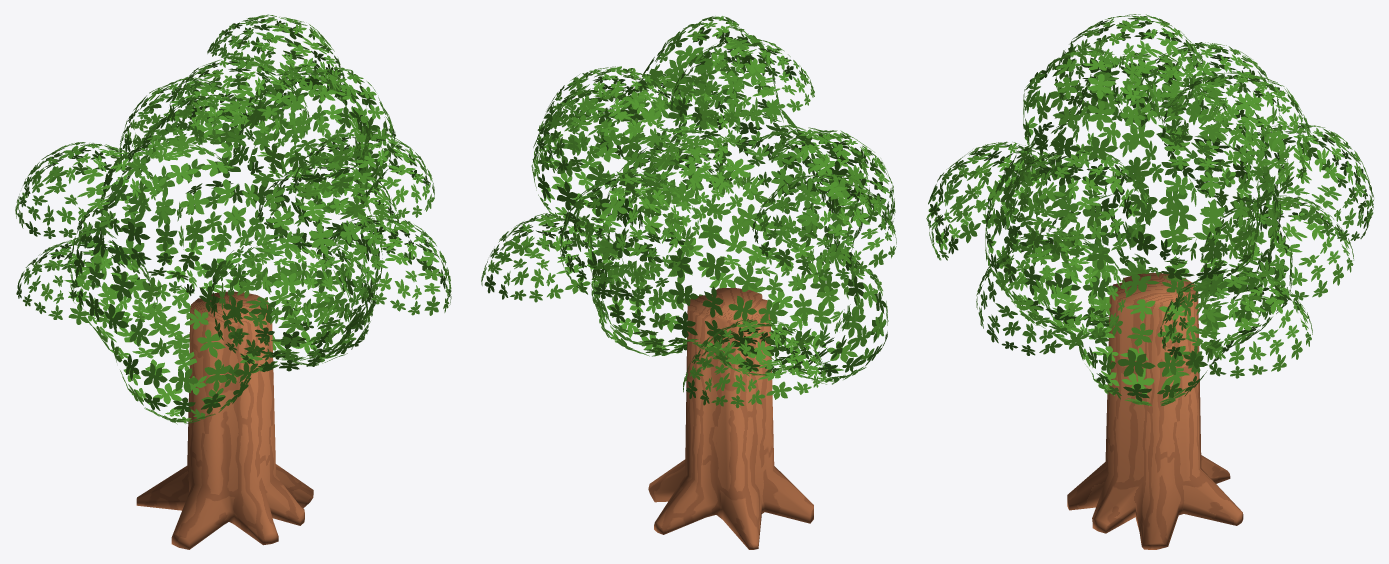
The model's file is tree-b.glb.
3 views of the same model, side by side, from view 1: azimuth 30°, elevation 25°; view 2: azimuth 150°, elevation 25°; view 3: azimuth 270°, elevation 25° (orthographic). The views are drawn at different scales.
Visible parts, largest first — view 1: leaves.001, trunk; view 2: leaves.001, trunk; view 3: leaves.001, trunk.
Part boxes in pixels (left/top/right/bottom): leaves.001: left=15, top=14, right=451, bottom=424; trunk: left=136, top=291, right=313, bottom=549; leaves.001: left=481, top=16, right=896, bottom=408; trunk: left=648, top=288, right=813, bottom=549; leaves.001: left=926, top=14, right=1373, bottom=405; trunk: left=1067, top=273, right=1243, bottom=549.
Bounding box in the file's own units: 7.82 × 9.1 × 7.55.
2 materials, 2 textured.
